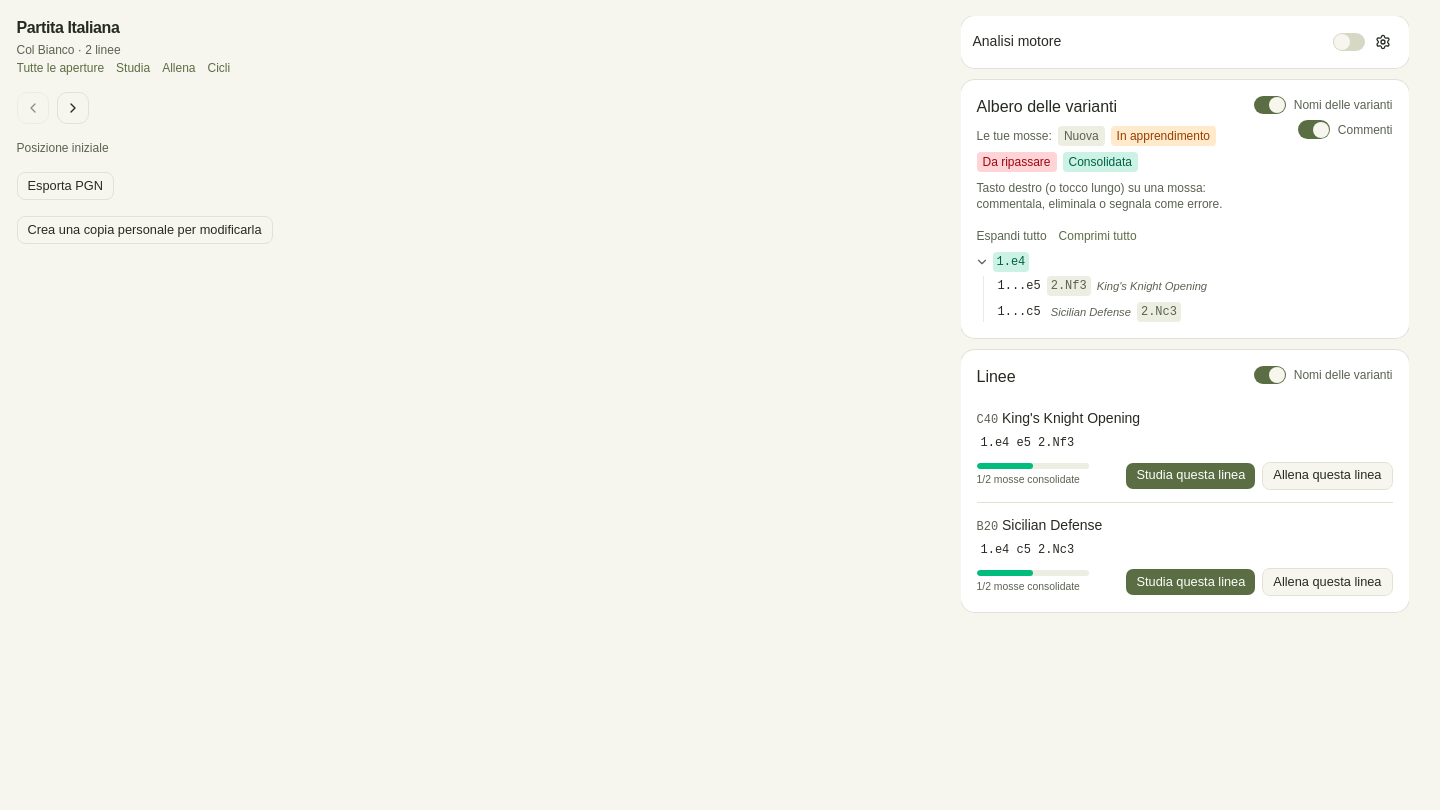
Test: OpeningLinesPage › hides the variation names in the tree and in the lines, each on its own
Expected: the text "King's Knight Opening" is shown 2 times, top-left (1093, 278), bottom-right (1211, 294); top-left (976, 410), bottom-right (1140, 427)
Click the 1st switch named "Nomi delle varianti" at (1270, 105), box top-left (1254, 96), bottom-right (1286, 114)
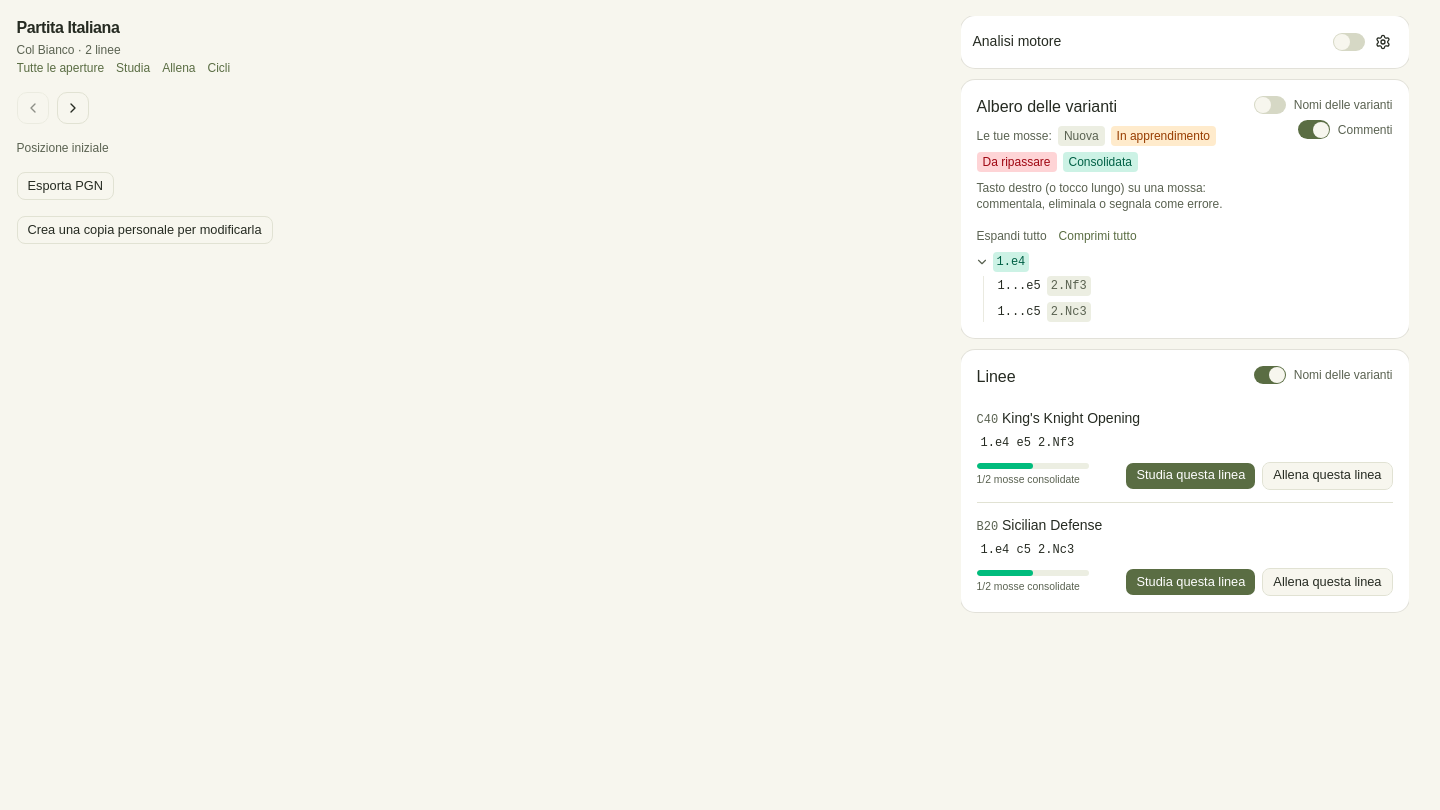
Expected: the text "King's Knight Opening" is shown once, top-left (976, 410), bottom-right (1140, 427)
Expected: the text "C40" is shown, top-left (976, 413), bottom-right (998, 427)
Click the 3rd switch named "Nomi delle varianti" at (1270, 375), box top-left (1254, 366), bottom-right (1286, 384)
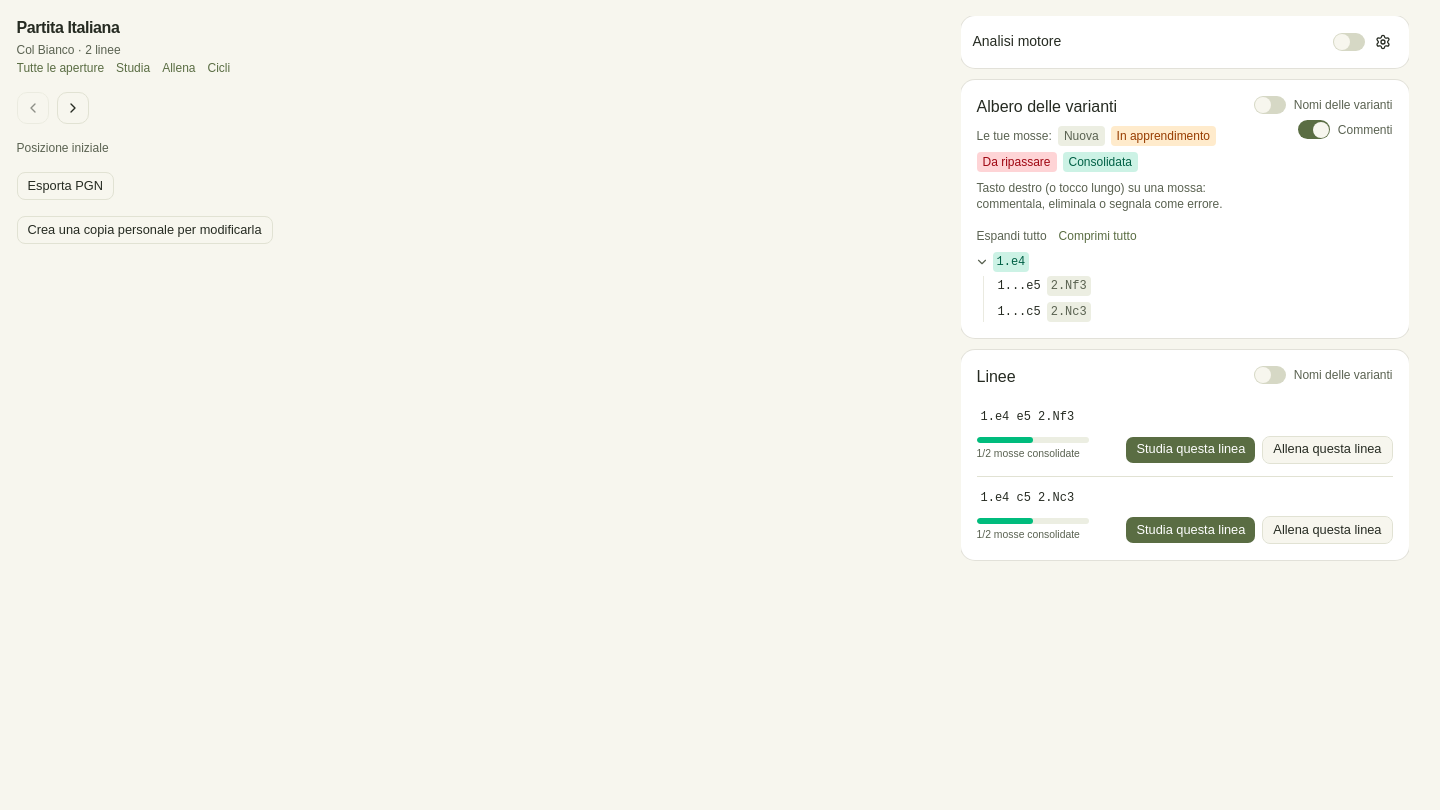
Now the text "King's Knight Opening" is gone
Now the text "C40" is gone
